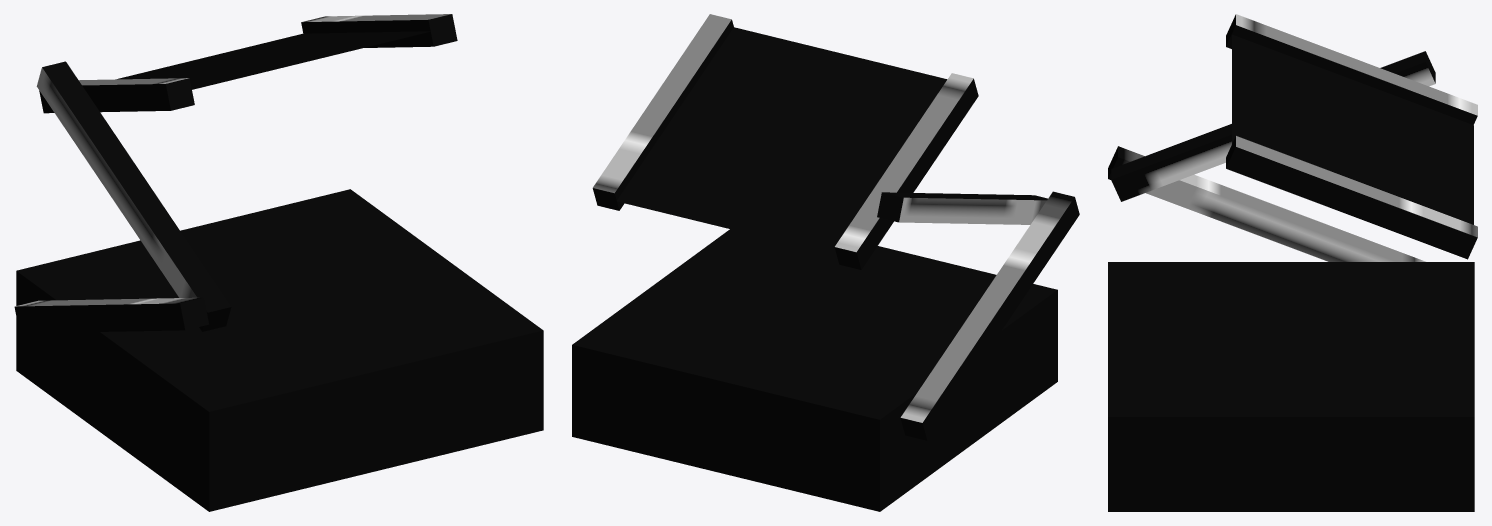
Rendered from seed_analyzer.obj.
3 views of the same model, side by side, from view 1: azimuth 30°, elevation 25°; view 2: azimuth 150°, elevation 25°; view 3: azimuth 270°, elevation 25° (orthographic). The views are drawn at different scales.
Visible parts, largest first — view 1: Element #1, Element #2, Element #3, Element #6, Element #4, Element #5; view 2: Element #1, Element #6, Element #3, Element #4, Element #5, Element #2; view 3: Element #1, Element #6, Element #5, Element #3, Element #4, Element #2.
Part boxes in pixels (x1,y1,x2,y2): Element #1: (16,189,543,511); Element #2: (36,61,231,331); Element #3: (14,297,208,333); Element #6: (117,31,429,89); Element #4: (39,78,194,113); Element #5: (301,14,457,47); Element #1: (572,229,1057,511); Element #6: (617,27,947,254); Element #3: (900,191,1079,440); Element #4: (834,73,978,269); Element #5: (592,14,733,210); Element #2: (877,192,1047,224); Element #1: (1108,262,1474,511); Element #6: (1232,34,1473,224); Element #5: (1226,136,1477,259); Element #3: (1108,146,1425,261); Element #4: (1226,14,1477,124); Element #2: (1111,51,1435,201).
Size of the model in its own units: 0.9 by 0.8954 by 0.8473.
